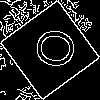O: (25, 25, 77, 71)
